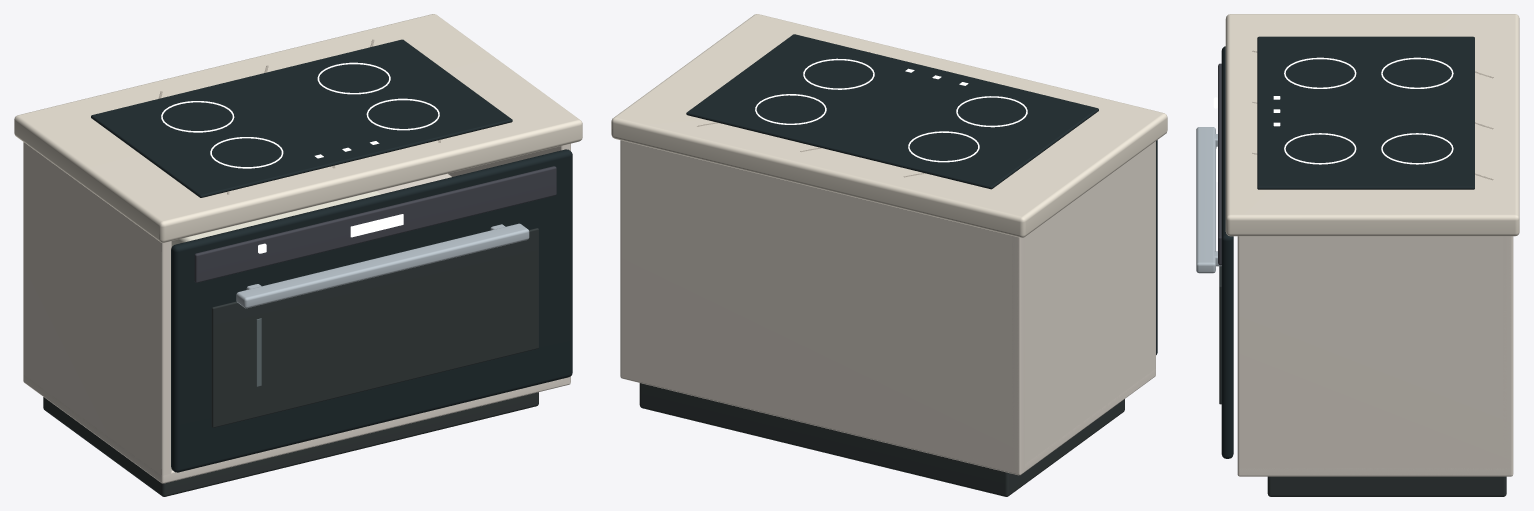
File: kitchenModernInductionWhite.glb
3 renders of one model, left to right at view 1: azimuth 30°, elevation 25°; view 2: azimuth 150°, elevation 25°; view 3: azimuth 270°, elevation 25°, orthographic. The views are drawn at different scales.
Parts seen in each view (by area): view 1: Oven black glass face, Thick stone worktop, Oven window, Storage inner side, Induction glass plate, Oven control strip, Recessed kitchen plinth, Slim oven handle, Storage inner floor, Stored folded linen, Storage inner side.001, Oven clock display; view 2: Storage inner back, Thick stone worktop, Induction glass plate, Storage inner side, Recessed kitchen plinth, Storage inner floor; view 3: Storage inner side.001, Induction glass plate, Thick stone worktop, Recessed kitchen plinth, Oven black glass face, Slim oven handle, Storage inner back, Storage inner floor, Oven control strip, Oven window.
Boxes of the visible parts, x1,y1,x2,y2 form: Oven black glass face: [171, 149, 572, 472]; Thick stone worktop: [14, 14, 582, 242]; Oven window: [211, 228, 538, 427]; Storage inner side: [23, 142, 171, 483]; Induction glass plate: [91, 39, 512, 197]; Oven control strip: [194, 166, 556, 282]; Recessed kitchen plinth: [43, 392, 538, 496]; Slim oven handle: [236, 223, 529, 308]; Storage inner floor: [23, 375, 570, 483]; Stored folded linen: [171, 191, 380, 246]; Storage inner side.001: [448, 143, 570, 385]; Oven clock display: [350, 214, 403, 237]; Storage inner back: [620, 140, 1024, 475]; Thick stone worktop: [611, 14, 1167, 237]; Induction glass plate: [686, 34, 1098, 189]; Storage inner side: [1012, 141, 1155, 475]; Recessed kitchen plinth: [639, 383, 1124, 496]; Storage inner floor: [883, 369, 1155, 471]; Storage inner side.001: [1237, 236, 1513, 476]; Induction glass plate: [1257, 36, 1474, 189]; Thick stone worktop: [1225, 14, 1519, 236]; Recessed kitchen plinth: [1267, 476, 1506, 496]; Oven black glass face: [1221, 46, 1233, 458]; Slim oven handle: [1196, 127, 1215, 273]; Storage inner back: [1503, 236, 1513, 475]; Storage inner floor: [1238, 468, 1511, 475]; Oven control strip: [1218, 63, 1221, 265]; Oven window: [1219, 266, 1221, 404].
Size of the model in its own units: 1.84 by 1.25 by 1.23.
